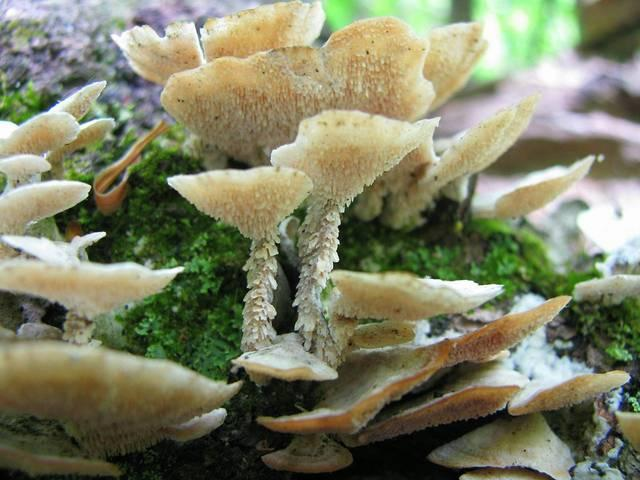poisonous_mushroom: (8, 8, 640, 480)
